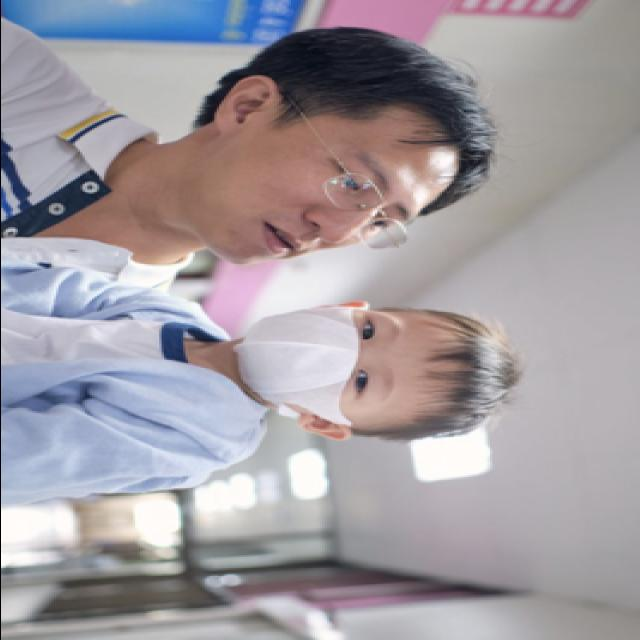mask: (232, 306, 412, 428)
no_mask: (187, 128, 422, 266)
